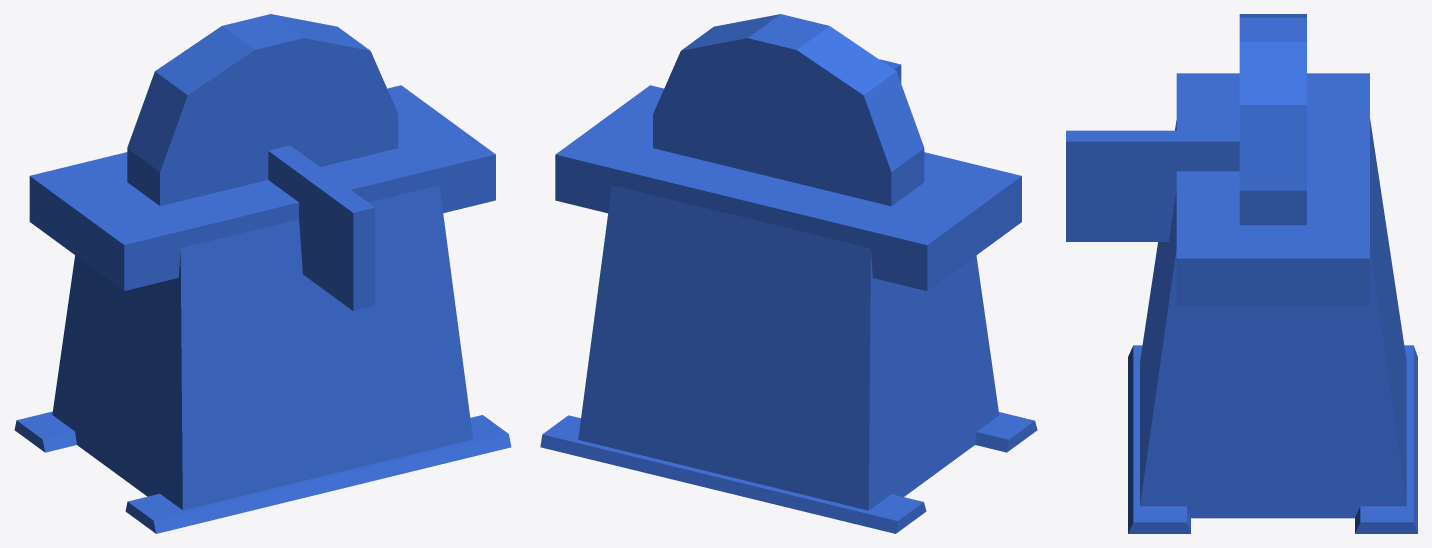
Rendered from Collision_Whetstone.fbx.
The picture shows the model from 3 angles, left to right: view 1: azimuth 30°, elevation 25°; view 2: azimuth 150°, elevation 25°; view 3: azimuth 270°, elevation 25°; orthographic projection. The views are drawn at different scales.
Parts seen in each view (by area): view 1: UCX_Whetstone_01, UCX_Whetstone_05, UCX_Whetstone_04, UCX_Whetstone_06, UCX_Whetstone_02, UCX_Whetstone_03; view 2: UCX_Whetstone_01, UCX_Whetstone_05, UCX_Whetstone_04, UCX_Whetstone_03, UCX_Whetstone_02; view 3: UCX_Whetstone_01, UCX_Whetstone_04, UCX_Whetstone_06, UCX_Whetstone_05, UCX_Whetstone_02, UCX_Whetstone_03.
Boxes of the visible parts, box(x1,y1,x2,y2) form: UCX_Whetstone_01: box(52, 185, 472, 510); UCX_Whetstone_05: box(127, 14, 398, 206); UCX_Whetstone_04: box(29, 85, 495, 290); UCX_Whetstone_06: box(268, 145, 374, 310); UCX_Whetstone_02: box(125, 415, 511, 533); UCX_Whetstone_03: box(14, 411, 76, 452); UCX_Whetstone_01: box(578, 185, 999, 510); UCX_Whetstone_05: box(653, 14, 924, 206); UCX_Whetstone_04: box(555, 85, 1021, 291); UCX_Whetstone_03: box(540, 415, 926, 533); UCX_Whetstone_02: box(975, 412, 1037, 452); UCX_Whetstone_01: box(1140, 119, 1406, 518); UCX_Whetstone_04: box(1176, 73, 1369, 305); UCX_Whetstone_06: box(1066, 130, 1239, 241); UCX_Whetstone_05: box(1239, 14, 1306, 225); UCX_Whetstone_02: box(1128, 345, 1190, 533); UCX_Whetstone_03: box(1355, 345, 1417, 533).
Bounding box in the file's own units: 114 × 119 × 91.29.
